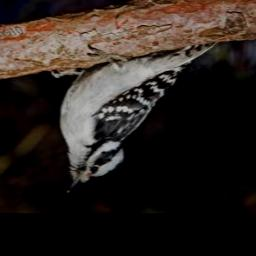Woodpecker: (45, 43, 216, 197)
